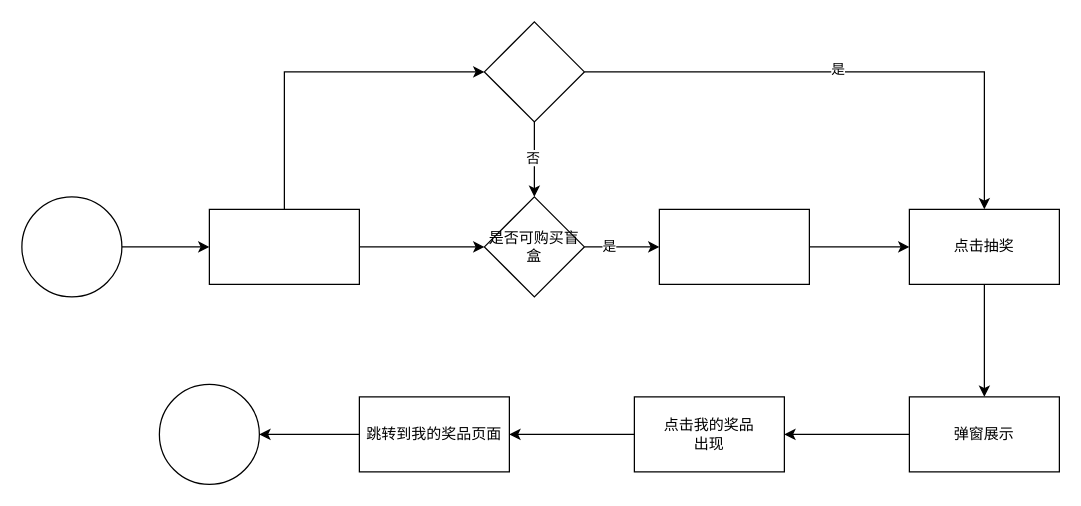
Some shapes in this 1081 by 506 pixel diagram are drawn without their labels. Each missing label, with the centre of its shape:
"是否有抽奖次数" goes at (533,71).
"请求抽奖信息 （包括剩余抽奖次数个数）" goes at (283,246).
"购买盲盒按钮" goes at (733,246).
